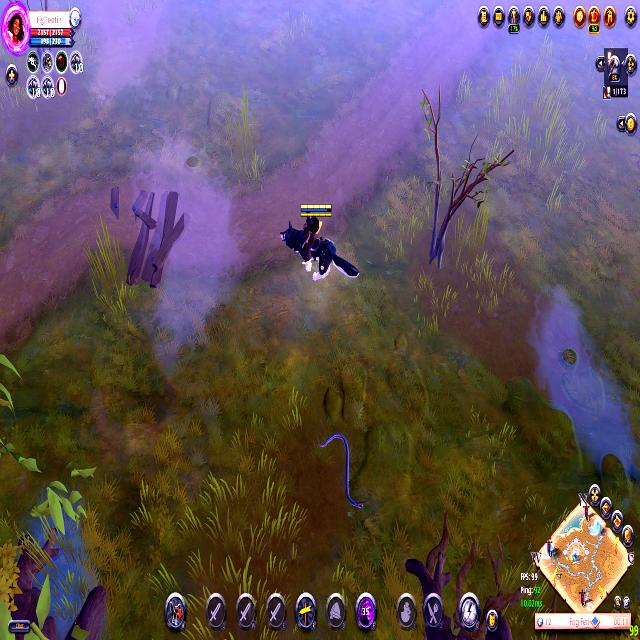red: (276, 194, 368, 304)
